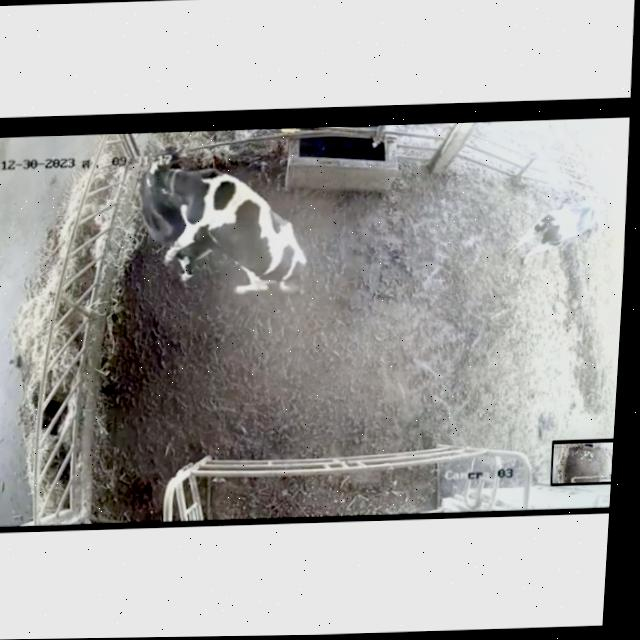ride: (136, 155, 328, 309)
